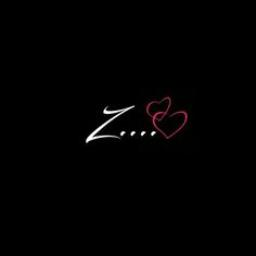z: (82, 102, 136, 144)
